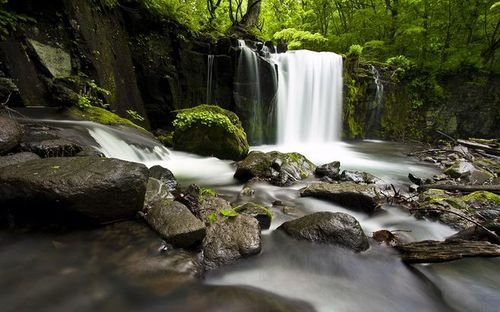mountain: (27, 133, 224, 295)
